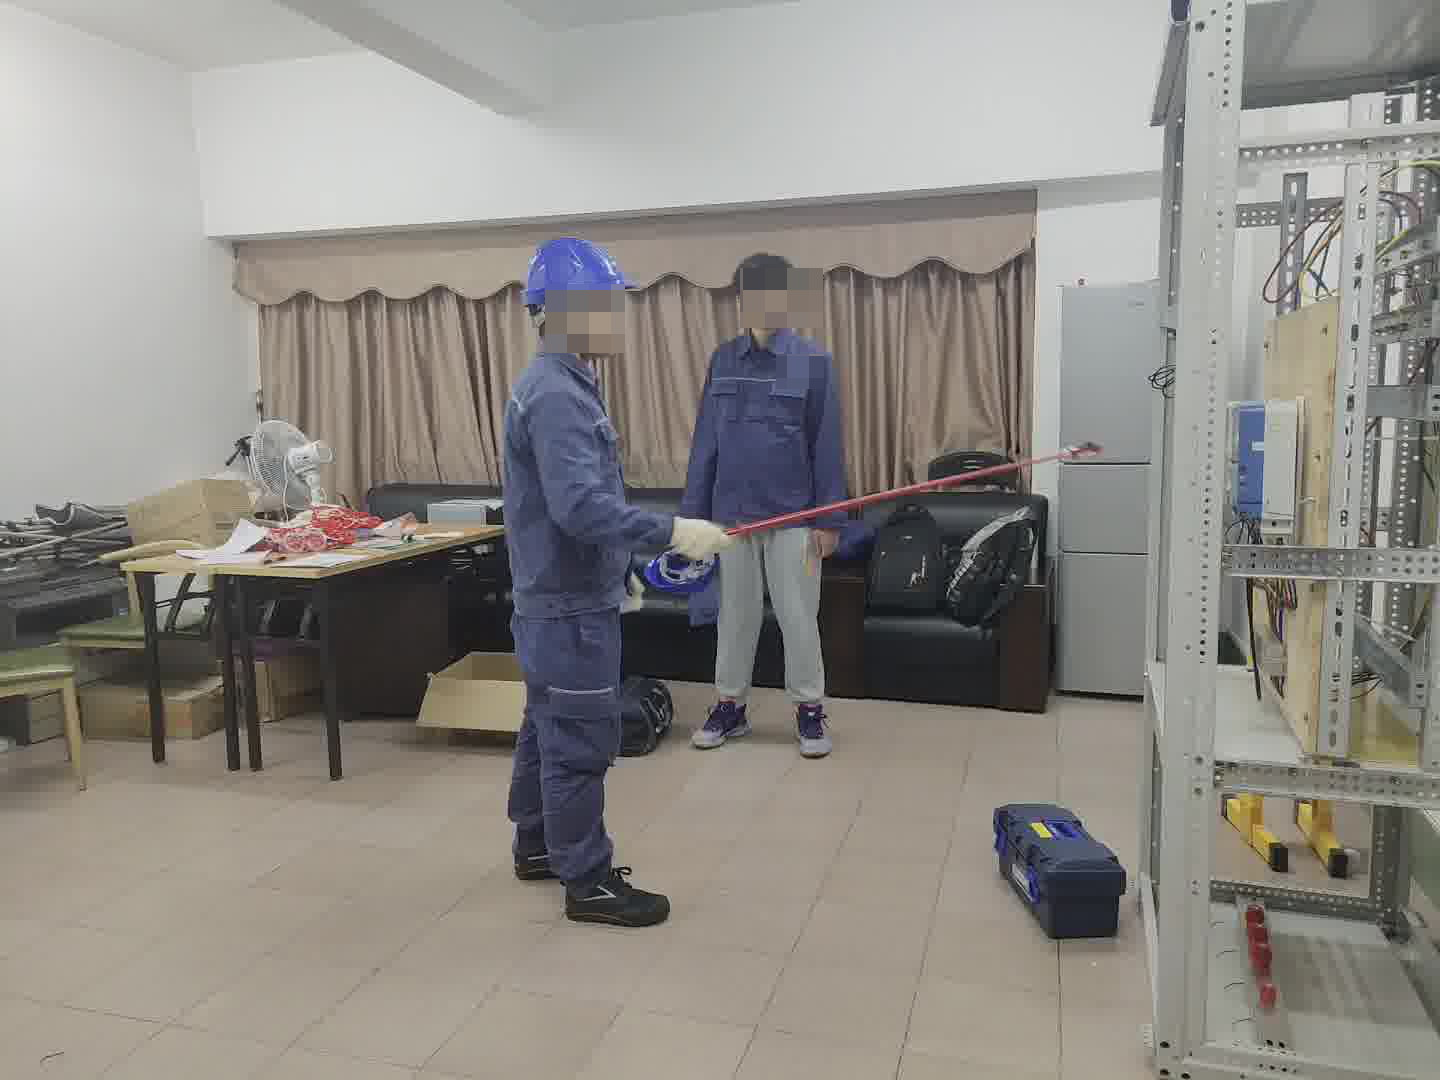downcloth: (703, 531, 830, 707)
downsuit: (504, 620, 629, 879)
halt: (517, 237, 636, 358)
hand: (812, 529, 840, 553)
inear: (535, 292, 592, 353)
noear: (730, 286, 754, 325)
person: (492, 231, 673, 924), (686, 255, 852, 763)
testrod: (704, 443, 1108, 534)
unhalt: (728, 252, 804, 337)
upsuit: (498, 344, 669, 606), (683, 328, 856, 535)
wglove: (671, 510, 738, 564)
